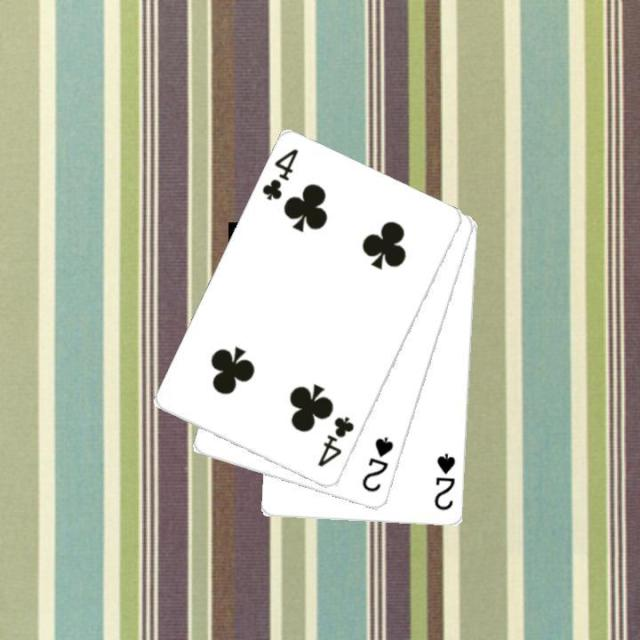2S: (358, 433, 396, 494), (430, 449, 458, 513)
4C: (258, 145, 300, 203), (314, 414, 356, 469)
